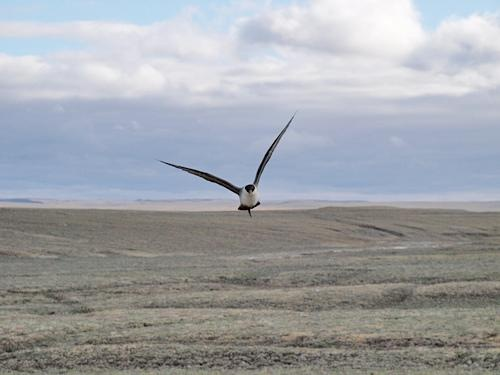bird: (155, 113, 302, 219)
